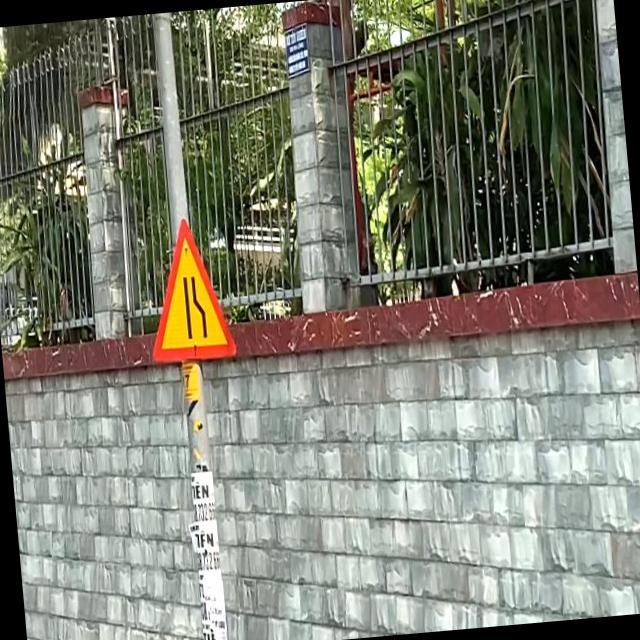W-203c: (140, 216, 238, 362)
